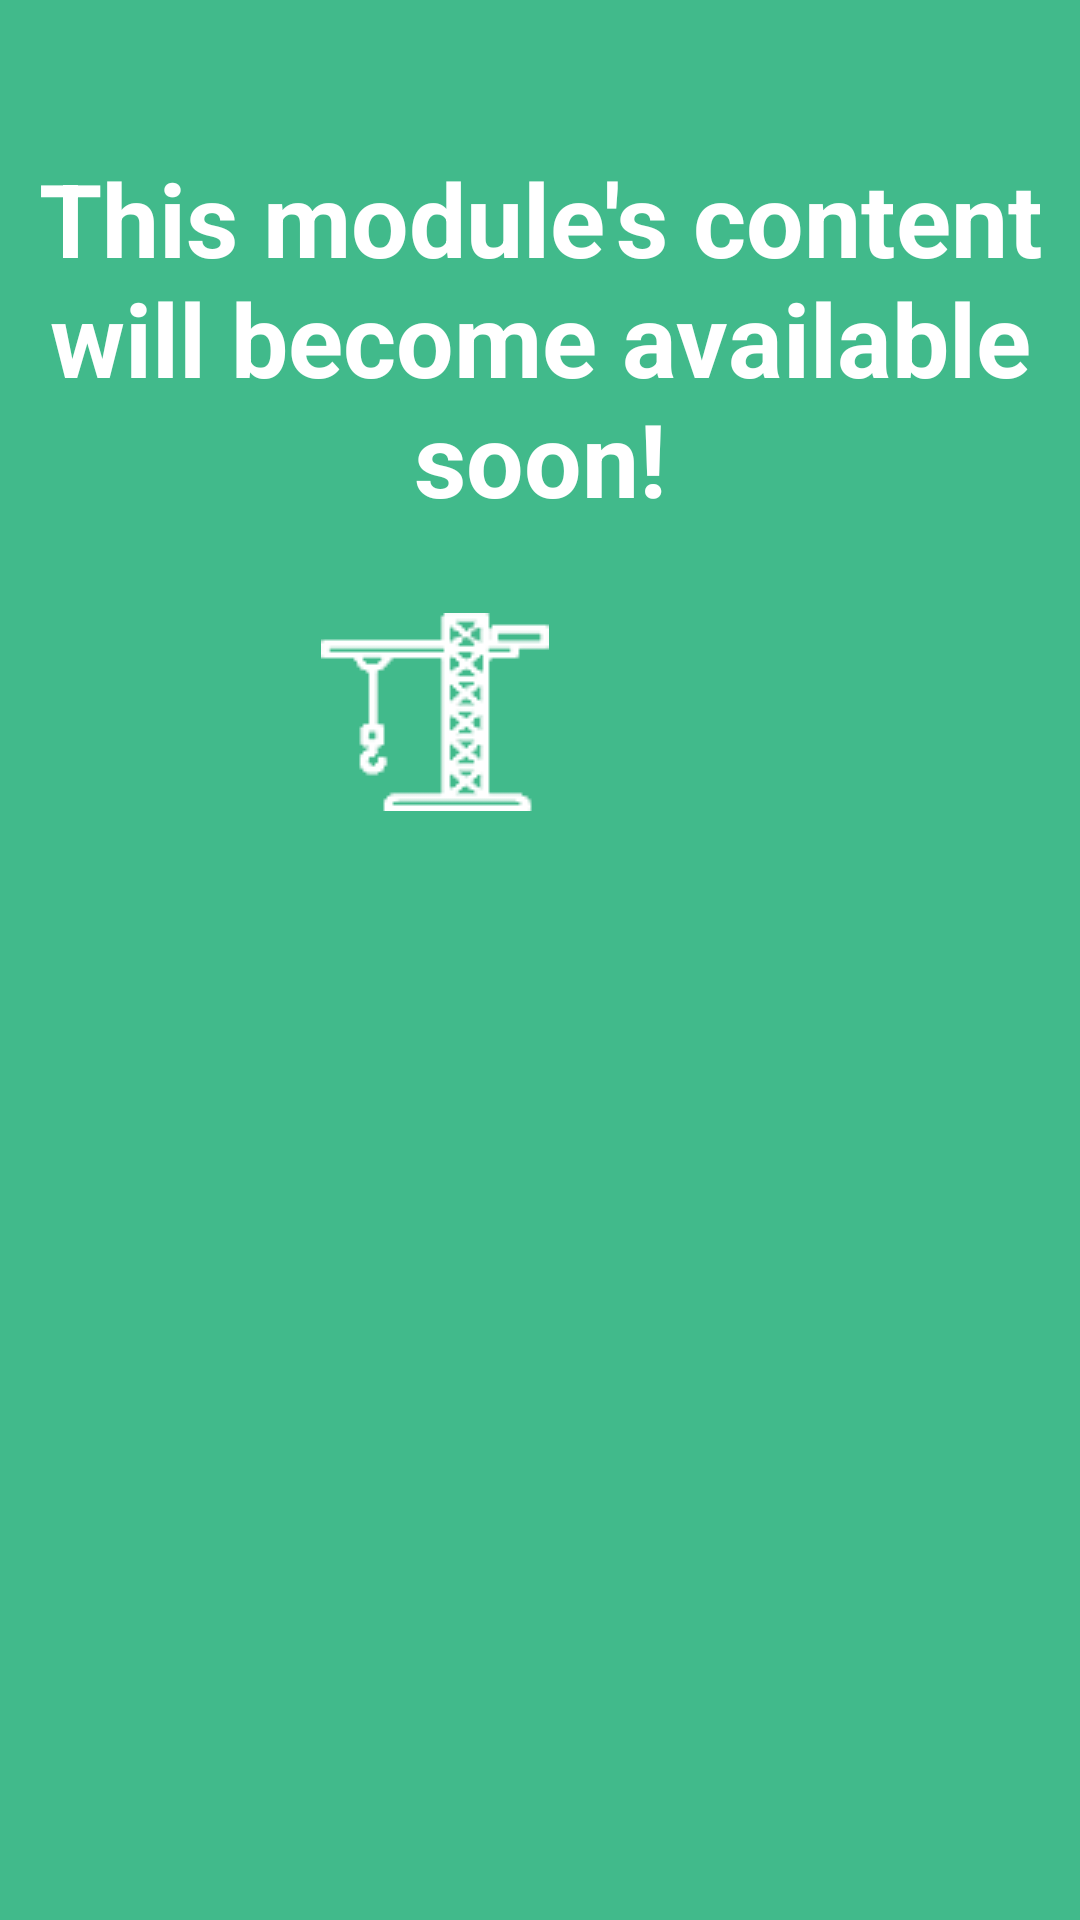

Icon click points for this 1080px×1920px phone screenshot, format point (x, y):
Image of a crane: point (435, 712)
